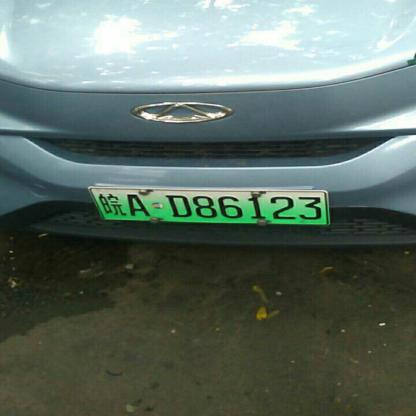lp: (86, 188, 328, 224)
